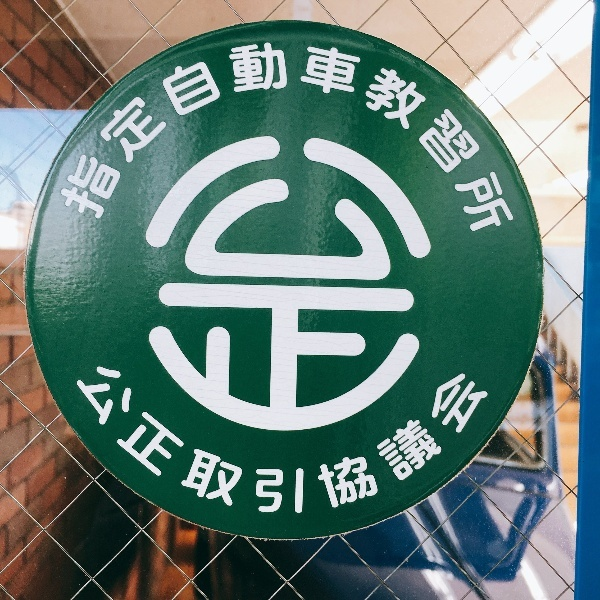text: (145, 133, 160, 440), (161, 133, 176, 440), (177, 133, 192, 440), (193, 133, 208, 440), (209, 133, 224, 440), (225, 133, 240, 440), (241, 133, 256, 440), (257, 133, 272, 440), (273, 133, 288, 440), (289, 133, 304, 440), (305, 133, 320, 440), (321, 133, 336, 440), (337, 133, 352, 440), (353, 133, 368, 440), (369, 133, 384, 440), (385, 133, 400, 440), (401, 133, 416, 440), (417, 133, 432, 440), (49, 19, 64, 236), (65, 19, 80, 236), (81, 19, 96, 236), (97, 19, 112, 236), (113, 19, 128, 236), (129, 19, 144, 236), (145, 19, 160, 236), (161, 19, 176, 236), (177, 19, 192, 236), (193, 19, 208, 236), (209, 19, 224, 236), (225, 19, 240, 236), (241, 19, 256, 236), (257, 19, 272, 236), (273, 19, 288, 236), (289, 19, 304, 236), (305, 19, 320, 236), (321, 19, 336, 236), (337, 19, 352, 236), (353, 19, 368, 236), (369, 19, 384, 236), (385, 19, 400, 236), (401, 19, 416, 236), (417, 19, 432, 236), (433, 19, 448, 236), (449, 19, 464, 236), (465, 19, 480, 236), (481, 19, 496, 236), (497, 19, 512, 236), (513, 19, 528, 236), (81, 363, 96, 545), (97, 363, 112, 545), (113, 363, 128, 545), (129, 363, 144, 545), (145, 363, 160, 545), (161, 363, 176, 545), (177, 363, 192, 545), (193, 363, 208, 545), (209, 363, 224, 545), (225, 363, 240, 545), (241, 363, 256, 545), (257, 363, 272, 545), (273, 363, 288, 545), (289, 363, 304, 545), (305, 363, 320, 545), (321, 363, 336, 545), (337, 363, 352, 545), (353, 363, 368, 545), (369, 363, 384, 545), (385, 363, 400, 545), (401, 363, 416, 545), (417, 363, 432, 545), (433, 363, 448, 545), (449, 363, 464, 545), (465, 363, 480, 545), (37, 19, 48, 236), (481, 363, 494, 545), (140, 133, 144, 440), (75, 363, 80, 545), (529, 19, 533, 236), (433, 133, 434, 440)
